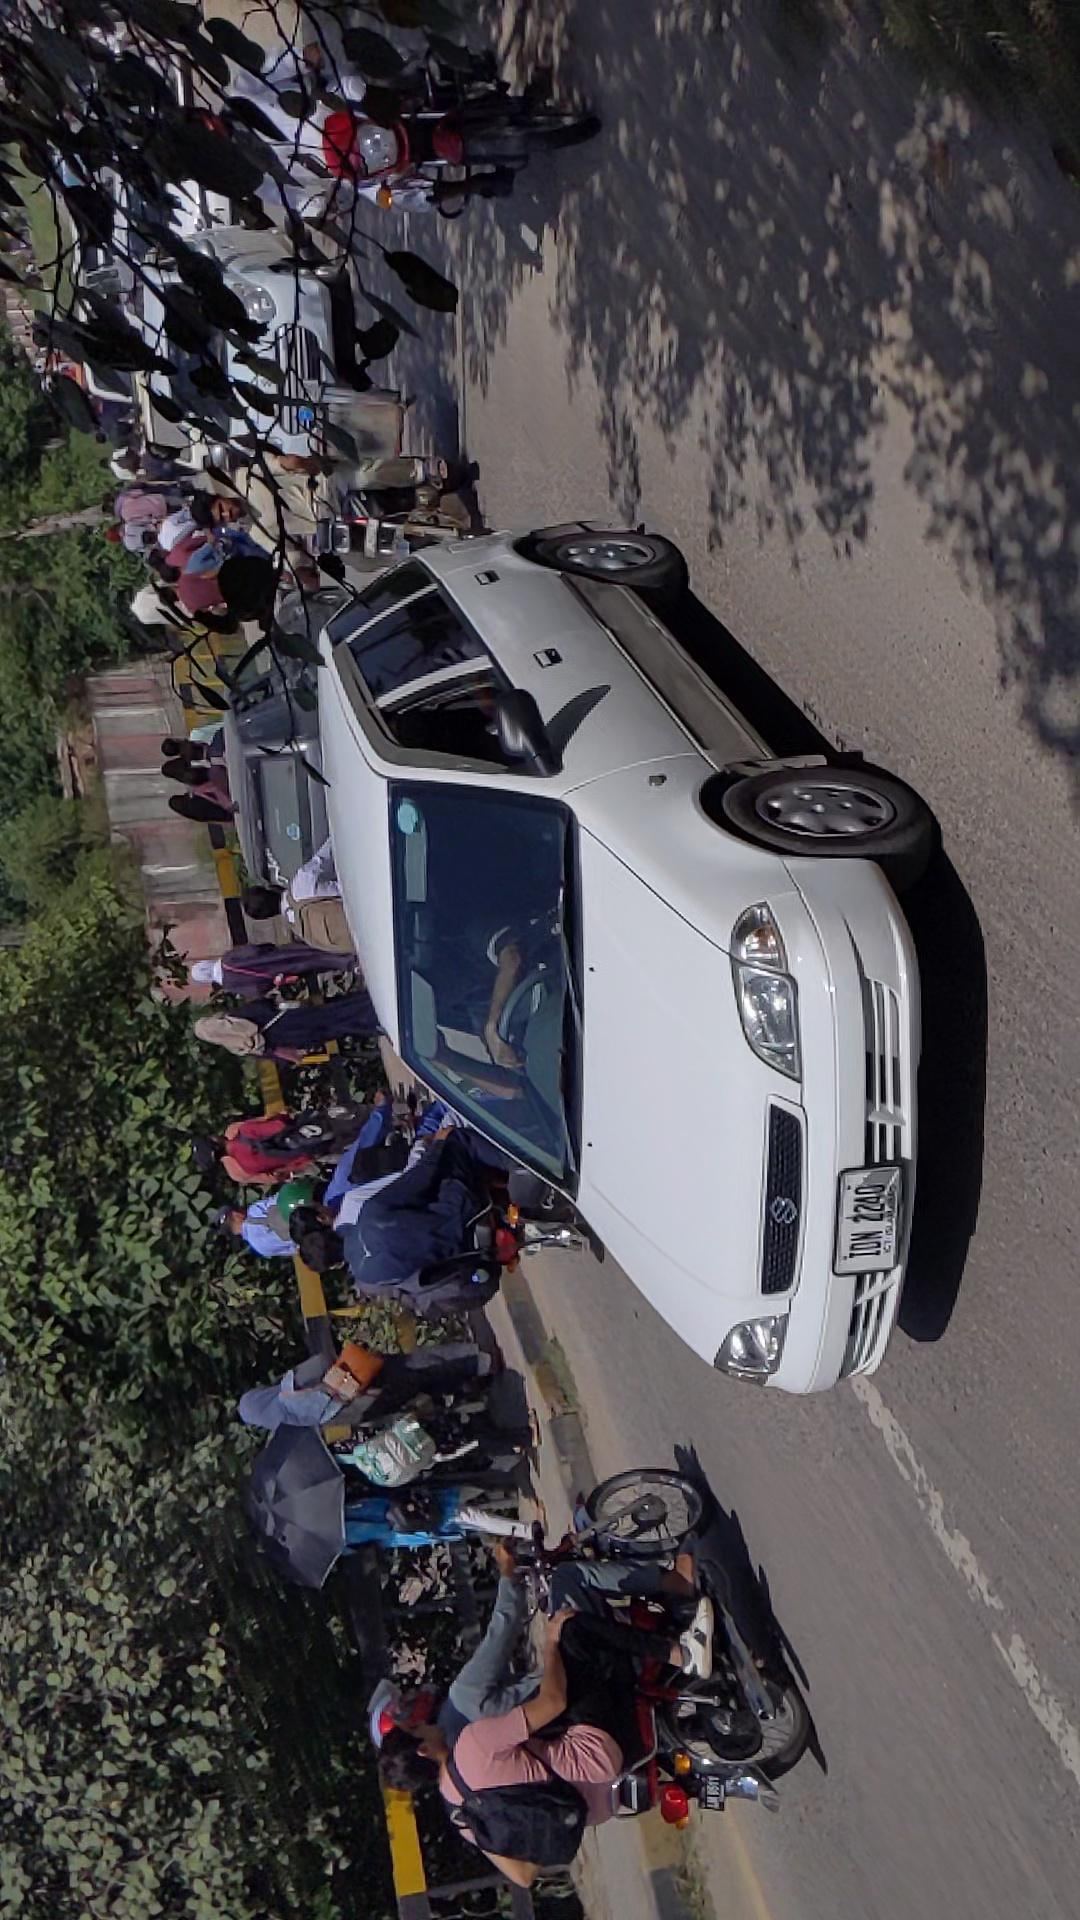windshield: (382, 651, 644, 1079)
